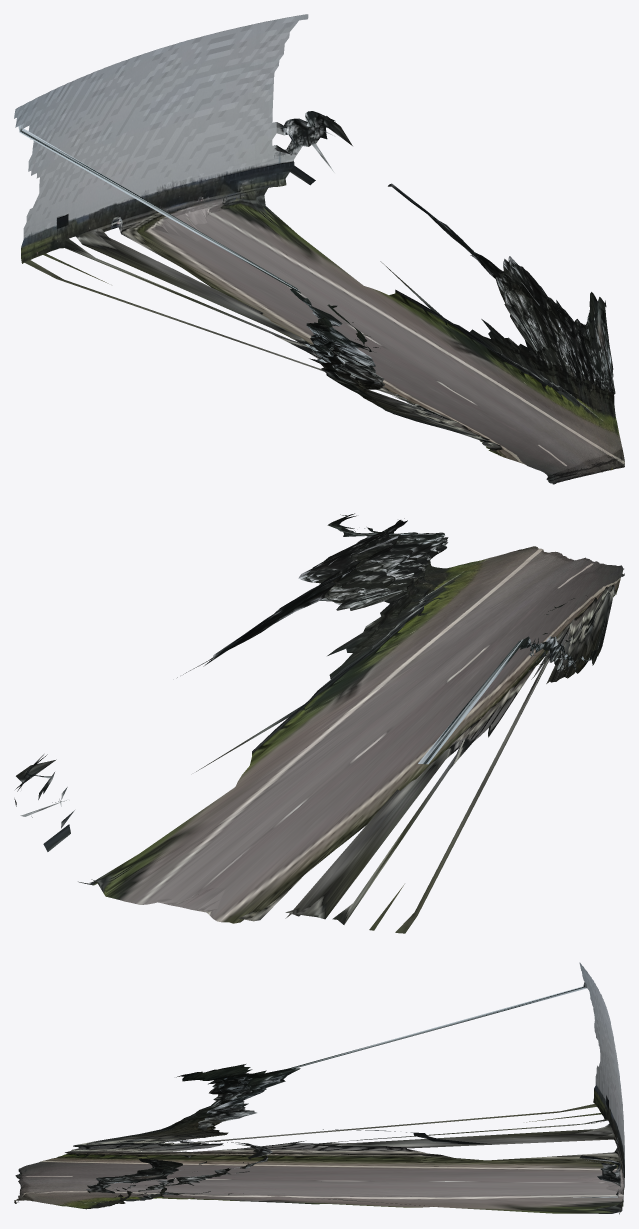
The picture shows the model from 3 angles, top to bottom: view 1: azimuth 30°, elevation 25°; view 2: azimuth 150°, elevation 25°; view 3: azimuth 270°, elevation 25°; orthographic projection. The views are drawn at different scales.
Visible parts, largest first — view 1: defaultobject; view 2: defaultobject; view 3: defaultobject.
Part boxes in pixels (left/top/right/bottom): defaultobject: left=14, top=14, right=624, bottom=484; defaultobject: left=14, top=513, right=624, bottom=933; defaultobject: left=14, top=962, right=624, bottom=1214.
Size of the model in its own units: 23.16 by 12.19 by 44.39.
Materials: 1 (1 with a texture image).
